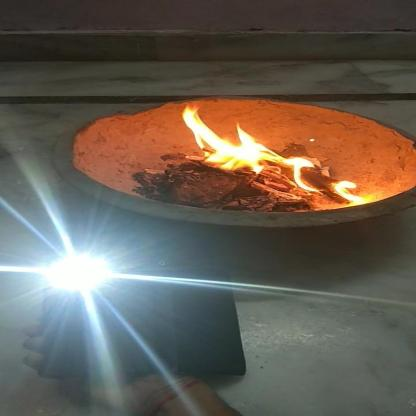fire: (169, 104, 364, 204)
